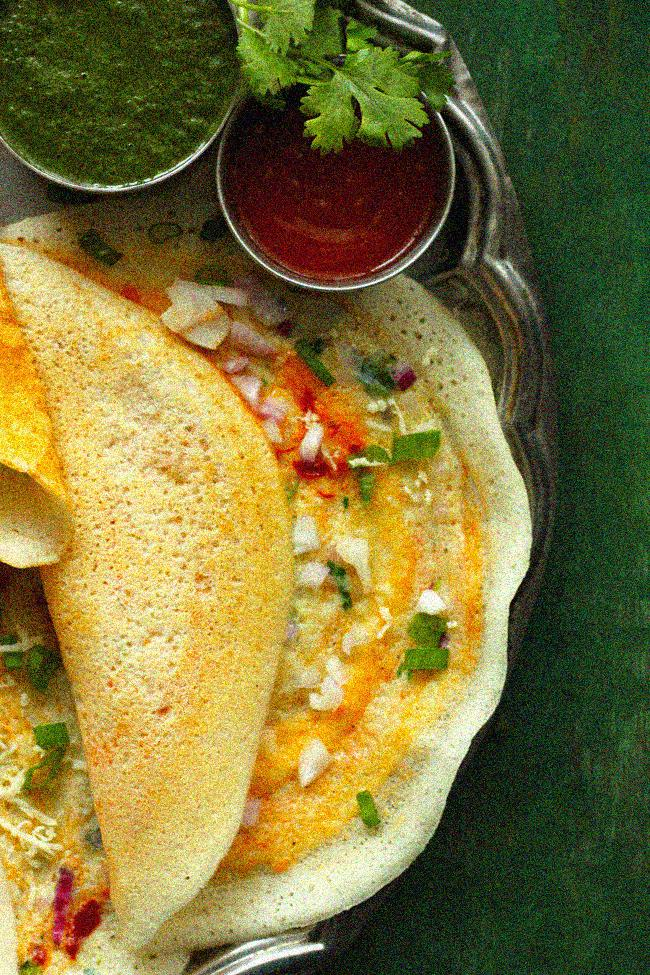dosa: (2, 211, 532, 950)
